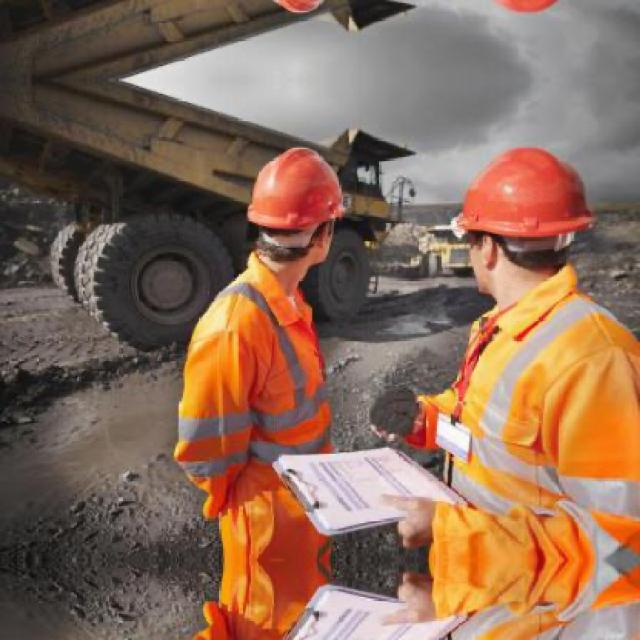con casco: (192, 130, 362, 290), (445, 137, 605, 302)
